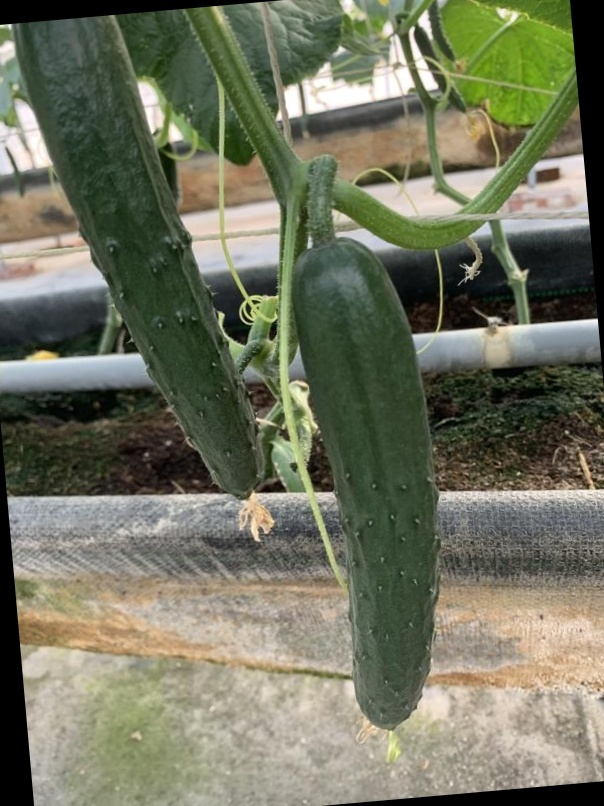mature: (17, 12, 268, 512), (301, 241, 448, 742)
